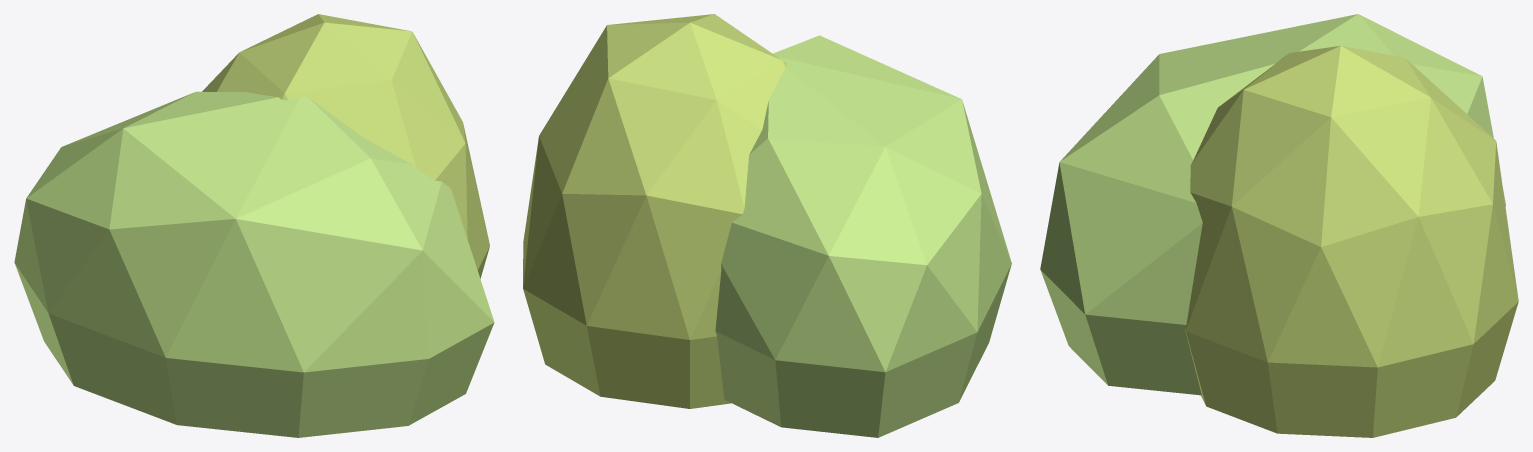
The model's file is Bush_e_m_01.fbx.
3 renders of one model, left to right at view 1: azimuth 30°, elevation 25°; view 2: azimuth 150°, elevation 25°; view 3: azimuth 270°, elevation 25°, orthographic. The views are drawn at different scales.
Visible parts, largest first — view 1: Bush_e_m_01; view 2: Bush_e_m_01; view 3: Bush_e_m_01.
Part boxes in pixels (left/top/right/bottom): Bush_e_m_01: left=14, top=14, right=494, bottom=437; Bush_e_m_01: left=523, top=14, right=1011, bottom=437; Bush_e_m_01: left=1040, top=14, right=1518, bottom=437.
Bounding box in the file's own units: 1.69 × 1.19 × 1.57.
